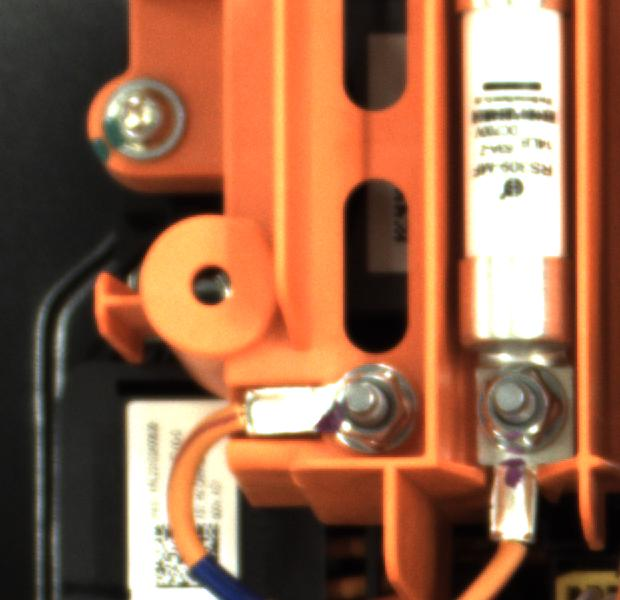screw_m: (96, 69, 194, 167)
screw_s: (477, 362, 578, 453), (321, 355, 417, 449)
